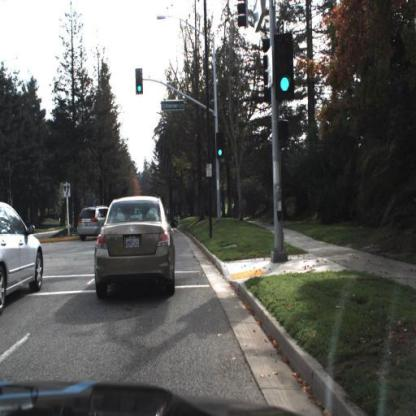car: (95, 194, 177, 302), (1, 200, 44, 317), (77, 206, 108, 243)
trafficLight: (273, 34, 295, 100), (216, 132, 225, 162), (136, 69, 145, 95)
